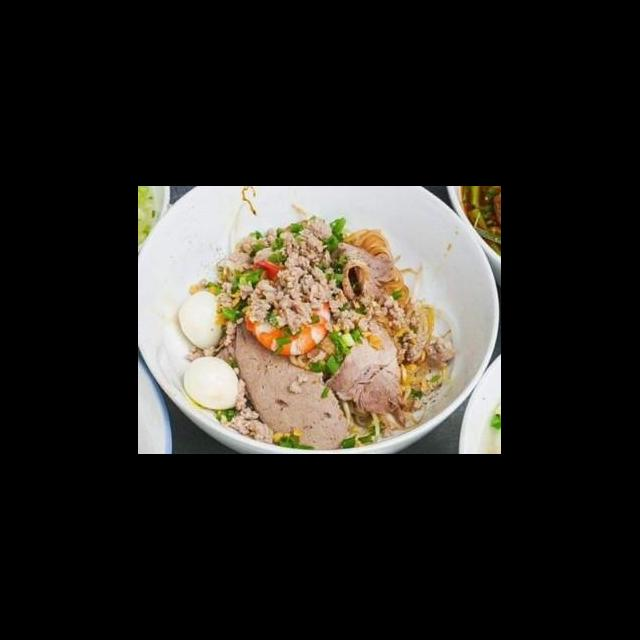gan: (232, 306, 356, 453)
thit bam: (214, 208, 336, 336), (324, 276, 422, 336), (218, 375, 278, 447), (396, 328, 460, 375)
thit heo: (324, 307, 410, 426), (326, 239, 406, 307)
tom: (242, 254, 334, 359)
trung: (177, 287, 234, 353), (182, 352, 244, 412)
